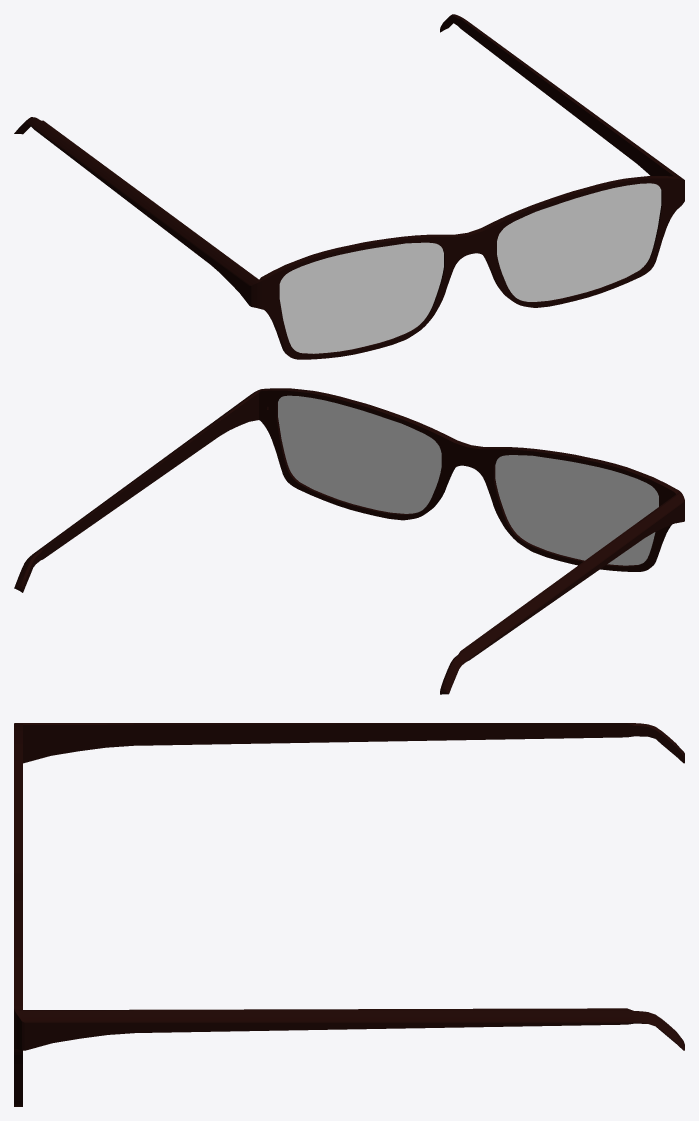
3 views of the same model, one above another, from view 1: azimuth 30°, elevation 25°; view 2: azimuth 150°, elevation 25°; view 3: azimuth 270°, elevation 25° (orthographic). The views are drawn at different scales.
Visible parts, largest first — view 1: cerceve.001; view 2: cerceve.001; view 3: cerceve.001.
Boxes of the visible parts, x1,y1,x2,y2 form: cerceve.001: (14,14,684,359); cerceve.001: (14,388,684,694); cerceve.001: (14,723,684,1106).
Bounding box in the file's own units: 4.19 × 0.9928 × 4.
